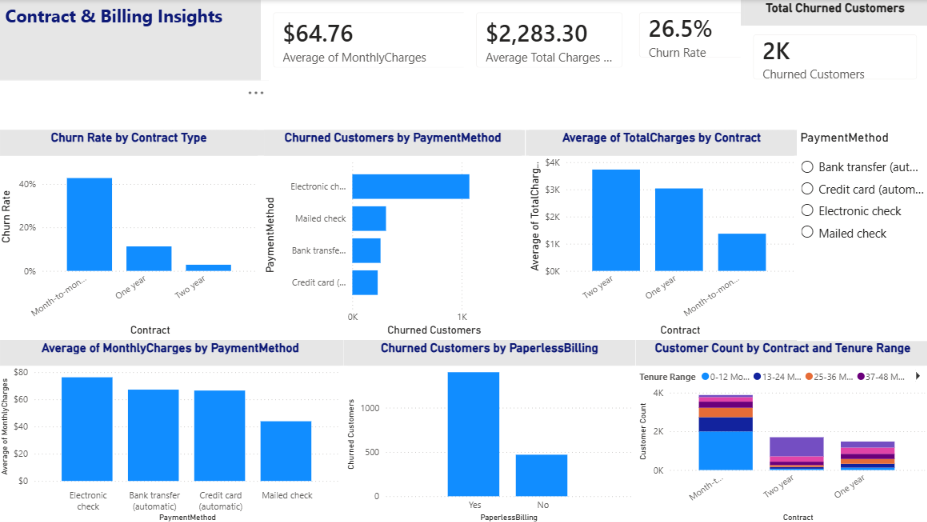

The dashboard page shown, as its layout file describes it:
{"tool":"powerbi","page":{"name":"Contract & Billing Insights","canvas":[1280,720],"ordinal":2},"visuals":[{"type":"textbox","box":[0,0,372.9,110.2],"z":0},{"type":"clusteredColumnChart","title":"Churn Rate by Contract Type","fields":{"Category":["Telcom-Customer-Churn.Contract"],"Y":["Telcom-Customer-Churn.Churn Rate"]},"box":[0,178,362.7,288.1],"z":1},{"type":"clusteredBarChart","fields":{"Category":["Telcom-Customer-Churn.PaymentMethod"],"Y":["Telcom-Customer-Churn.Churned Customers"]},"box":[362.7,178,362.7,288.1],"z":2},{"type":"clusteredColumnChart","fields":{"Category":["Telcom-Customer-Churn.Contract"],"Y":["Avg(Telcom-Customer-Churn.TotalCharges)"]},"box":[725.4,178,372.9,288.1],"z":3},{"type":"clusteredColumnChart","fields":{"Category":["Telcom-Customer-Churn.PaymentMethod"],"Y":["Avg(Telcom-Customer-Churn.MonthlyCharges)"]},"box":[0,466.1,476.3,254.2],"z":4},{"type":"clusteredColumnChart","fields":{"Category":["Telcom-Customer-Churn.PaperlessBilling"],"Y":["Telcom-Customer-Churn.Churned Customers"]},"box":[476.3,466.1,400,254.2],"z":5},{"type":"columnChart","fields":{"Category":["Telcom-Customer-Churn.Contract"],"Series":["Telcom-Customer-Churn.Tenure Range"],"Y":["Telcom-Customer-Churn.Customer Count"]},"box":[876.3,466.1,403.4,254.2],"z":6},{"type":"listSlicer","fields":{"Values":["Telcom-Customer-Churn.PaymentMethod"]},"box":[1098.3,178,181.4,289.8],"z":7},{"type":"cardVisual","fields":{"Data":["Avg(Telcom-Customer-Churn.MonthlyCharges)"]},"box":[362.7,0,300,110.2],"z":8},{"type":"cardVisual","fields":{"Data":["Telcom-Customer-Churn.Average Total Charges Display"]},"box":[640.7,0,235.6,110.2],"z":9},{"type":"cardVisual","fields":{"Data":["Telcom-Customer-Churn.Churn Rate"]},"box":[864.4,0,176.3,96.6],"z":10},{"type":"cardVisual","title":"Total Churned Customers","fields":{"Data":["Telcom-Customer-Churn.Churned Customers"]},"box":[1020.3,0,259.3,127.1],"z":11}]}

Visuals, with their boxes in screenshot pixels (x1, y1, x2, y2), scaled from the page's 1280x720 canvas onto the 927x522 screenshot:
textbox: rect(0, 0, 270, 80)
"Churn Rate by Contract Type" clusteredColumnChart: rect(0, 129, 263, 338)
clusteredBarChart - Telcom-Customer-Churn.PaymentMethod x Telcom-Customer-Churn.Churned Customers: rect(263, 129, 525, 338)
clusteredColumnChart - Telcom-Customer-Churn.Contract x Avg(Telcom-Customer-Churn.TotalCharges): rect(525, 129, 795, 338)
clusteredColumnChart - Telcom-Customer-Churn.PaymentMethod x Avg(Telcom-Customer-Churn.MonthlyCharges): rect(0, 338, 345, 521)
clusteredColumnChart - Telcom-Customer-Churn.PaperlessBilling x Telcom-Customer-Churn.Churned Customers: rect(345, 338, 635, 521)
columnChart - Telcom-Customer-Churn.Contract x Telcom-Customer-Churn.Tenure Range: rect(635, 338, 926, 521)
listSlicer - Telcom-Customer-Churn.PaymentMethod: rect(795, 129, 926, 339)
cardVisual - Avg(Telcom-Customer-Churn.MonthlyCharges): rect(263, 0, 480, 80)
cardVisual - Telcom-Customer-Churn.Average Total Charges Display: rect(464, 0, 635, 80)
cardVisual - Telcom-Customer-Churn.Churn Rate: rect(626, 0, 754, 70)
"Total Churned Customers" cardVisual: rect(739, 0, 926, 92)
